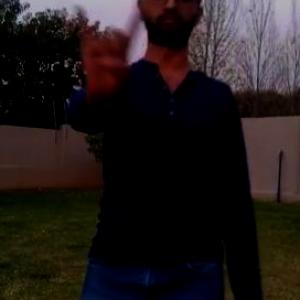takeoff-hand: (74, 0, 153, 113)
